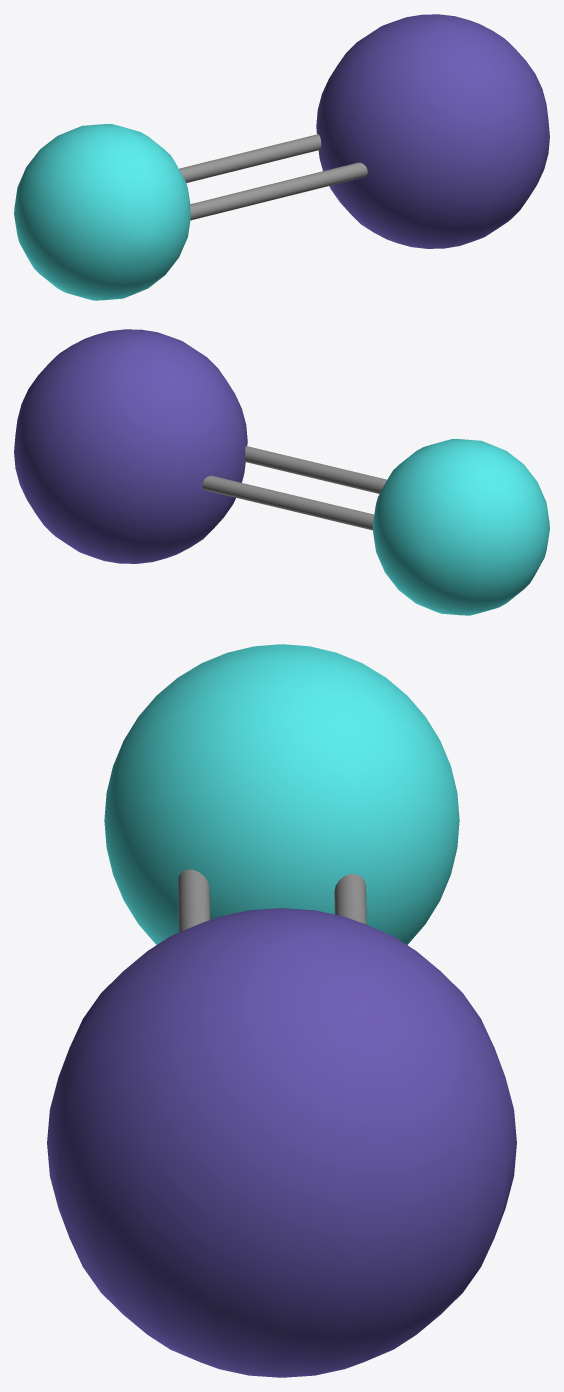
The model's file is MgS.fbx.
The picture shows the model from 3 angles, top to bottom: view 1: azimuth 30°, elevation 25°; view 2: azimuth 150°, elevation 25°; view 3: azimuth 270°, elevation 25°; orthographic projection. The views are drawn at different scales.
Visible parts, largest first — view 1: MgS; view 2: MgS; view 3: MgS.
Boxes of the visible parts, left/top/right/bottom form: MgS: left=14, top=14, right=549, bottom=300; MgS: left=14, top=329, right=549, bottom=615; MgS: left=47, top=644, right=516, bottom=1377.
Size of the model in its own units: 6.62 by 2.65 by 2.65.
